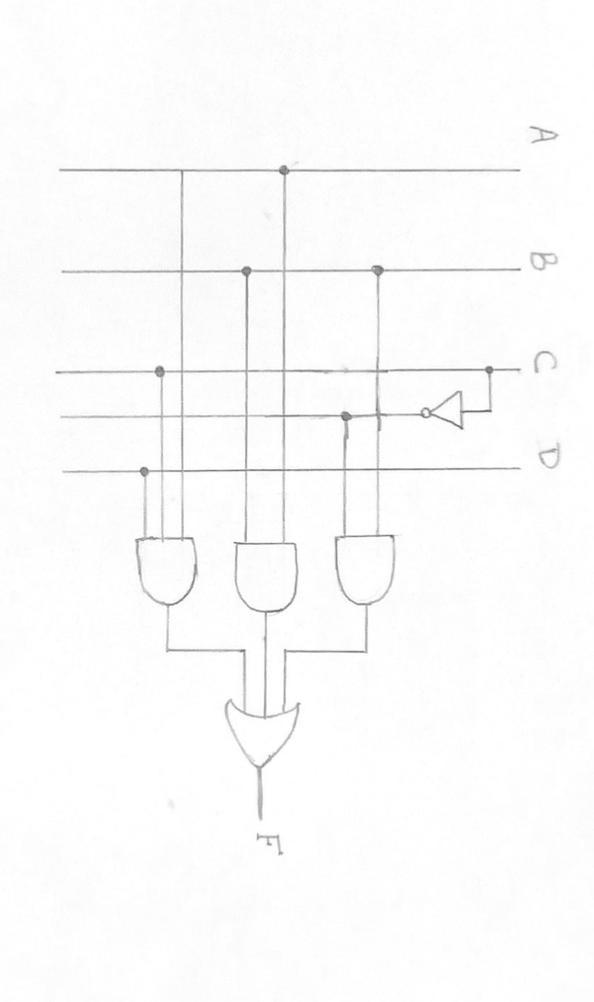AND: (122, 524, 209, 612), (224, 530, 310, 619), (328, 526, 414, 609)
NOT: (406, 382, 481, 443)
OR: (208, 684, 322, 779)
